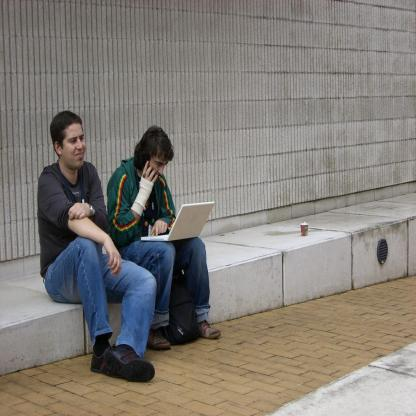board: (140, 197, 214, 241)
